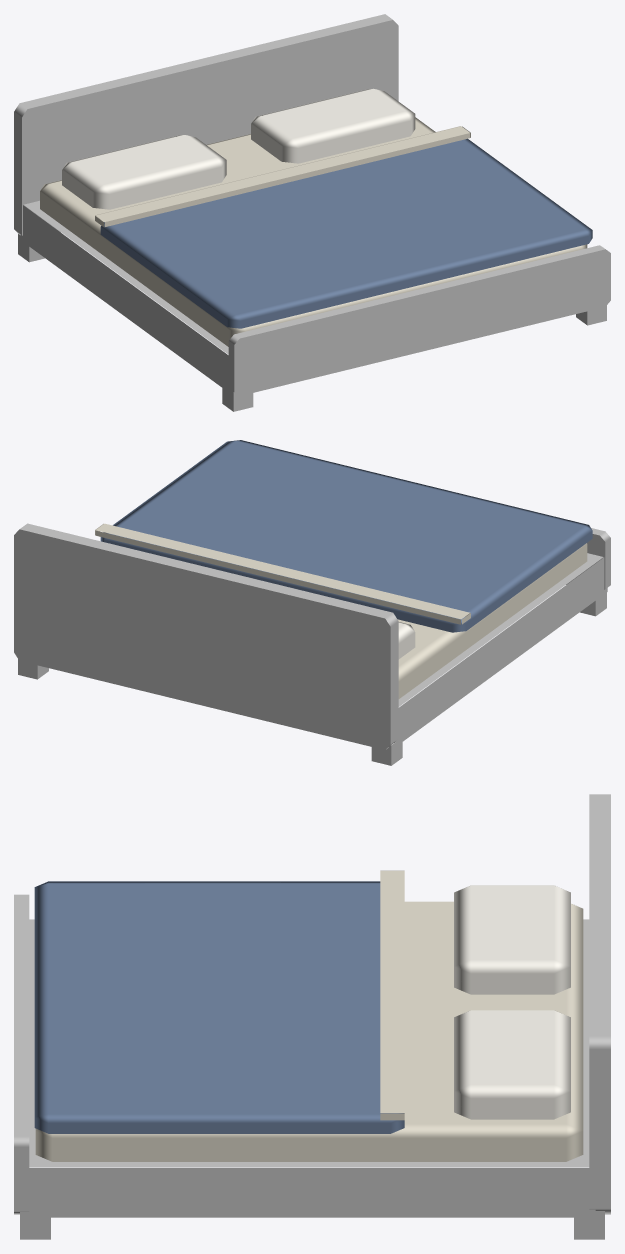
File: bed_double.obj
3 views of the same model, one above another, from view 1: azimuth 30°, elevation 25°; view 2: azimuth 150°, elevation 25°; view 3: azimuth 270°, elevation 25° (orthographic). The views are drawn at different scales.
Visible parts, largest first — view 1: blanket, headboard, footboard, mattress, bed_frame, pillow_2, pillow_1, folded_linen; view 2: headboard, blanket, bed_frame, folded_linen, mattress, footboard, leg_2, pillow_1; view 3: blanket, bed_frame, mattress, pillow_2, pillow_1, headboard, folded_linen, footboard, leg_4, leg_3.
Boxes of the visible parts, left/top/right/bottom form: blanket: left=100, top=138, right=592, bottom=328; headboard: left=14, top=14, right=398, bottom=235; footboard: left=228, top=245, right=610, bottom=395; mattress: left=40, top=117, right=587, bottom=346; bed_frame: left=20, top=200, right=237, bottom=395; pillow_2: left=251, top=88, right=415, bottom=163; pillow_1: left=62, top=135, right=226, bottom=209; folded_linen: left=95, top=126, right=470, bottom=226; headboard: left=14, top=523, right=398, bottom=749; blanket: left=100, top=440, right=592, bottom=632; bed_frame: left=394, top=553, right=607, bottom=746; folded_linen: left=95, top=523, right=470, bottom=624; mattress: left=397, top=543, right=587, bottom=698; footboard: left=566, top=528, right=610, bottom=589; leg_2: left=371, top=742, right=402, bottom=765; pillow_1: left=398, top=622, right=415, bottom=659; blanket: left=34, top=881, right=404, bottom=1133; bed_frame: left=20, top=919, right=595, bottom=1217; mattress: left=35, top=901, right=583, bottom=1161; pillow_2: left=454, top=1010, right=570, bottom=1119; pillow_1: left=454, top=885, right=570, bottom=994; headboard: left=589, top=794, right=610, bottom=1214; folded_linen: left=380, top=870, right=404, bottom=1120; footboard: left=14, top=894, right=29, bottom=1214; leg_4: left=574, top=1211, right=604, bottom=1239; leg_3: left=20, top=1217, right=50, bottom=1239.
Size of the model in its own units: 1.92 by 0.72 by 1.94.
